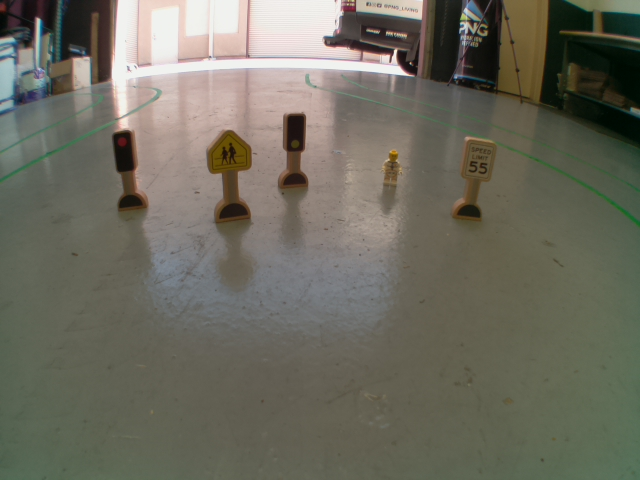Green Traffic Light: (282, 111, 307, 153)
Red Traffic Light: (110, 128, 139, 174)
Speed Limit 55: (458, 134, 497, 182)
YIELD: (206, 129, 252, 174)
person: (377, 143, 409, 191)
